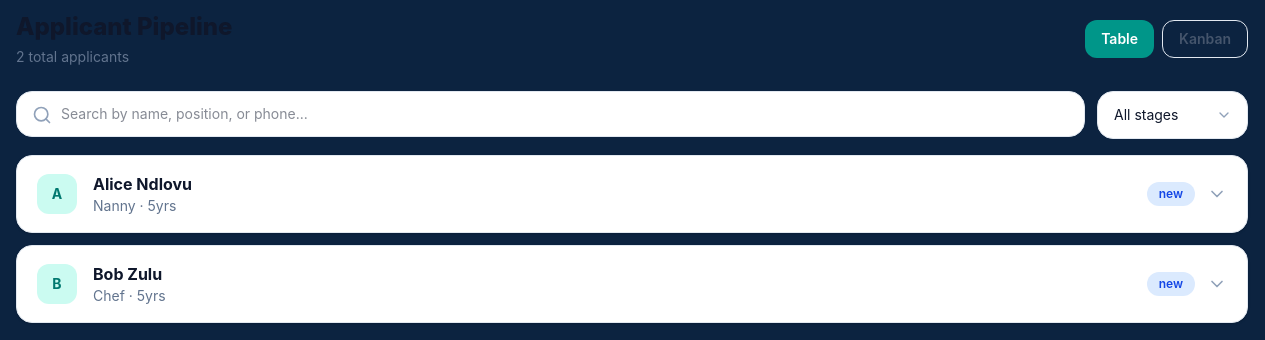
Test case: AdminApplicants › filters by search query
expect the text "Alice Ndlovu" is shown: met, box [93,172,192,196]
Step 1. Type "Bob" into the field with placeholder "Search by name, position, or phone..." → (550, 114), box [16,91,1085,137]
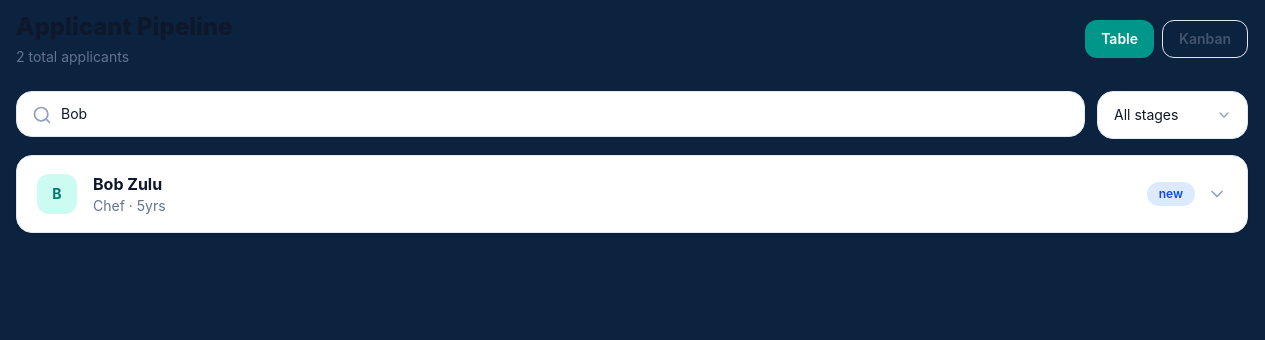
expect the text "Bob Zulu" is shown: met, box [93,172,166,196]
expect the text "Alice Ndlovu" is gone: met
